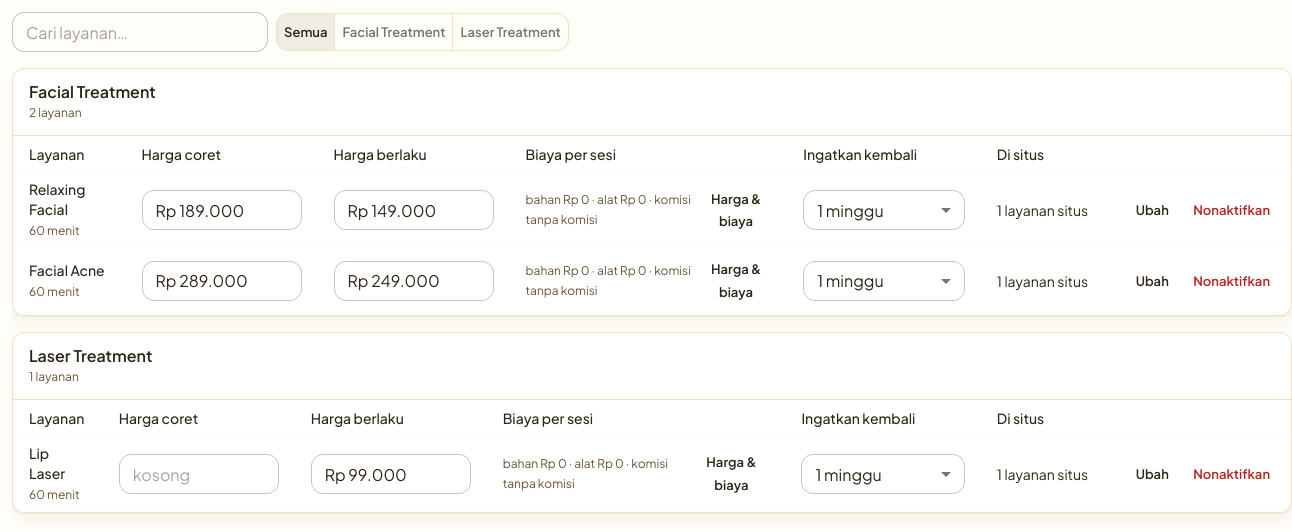
ServicePriceTable (spec D 5.4) › cari dan chip kategori menyaring tanpa membuang perubahan
The width and height of the screenshot is (1292, 532).
Type "1" into the field named "Harga berlaku Facial Acne".
click(414, 281); type("1")  # box [334,261,494,301]
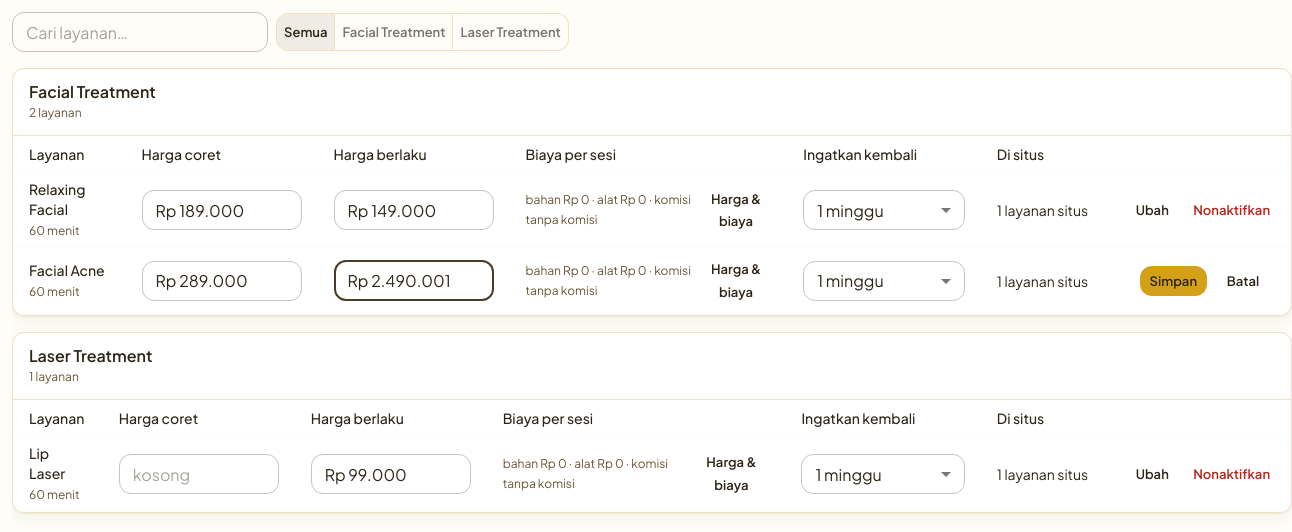
Click the button "Laser Treatment".
click(511, 32)  # box [452,13,569,51]
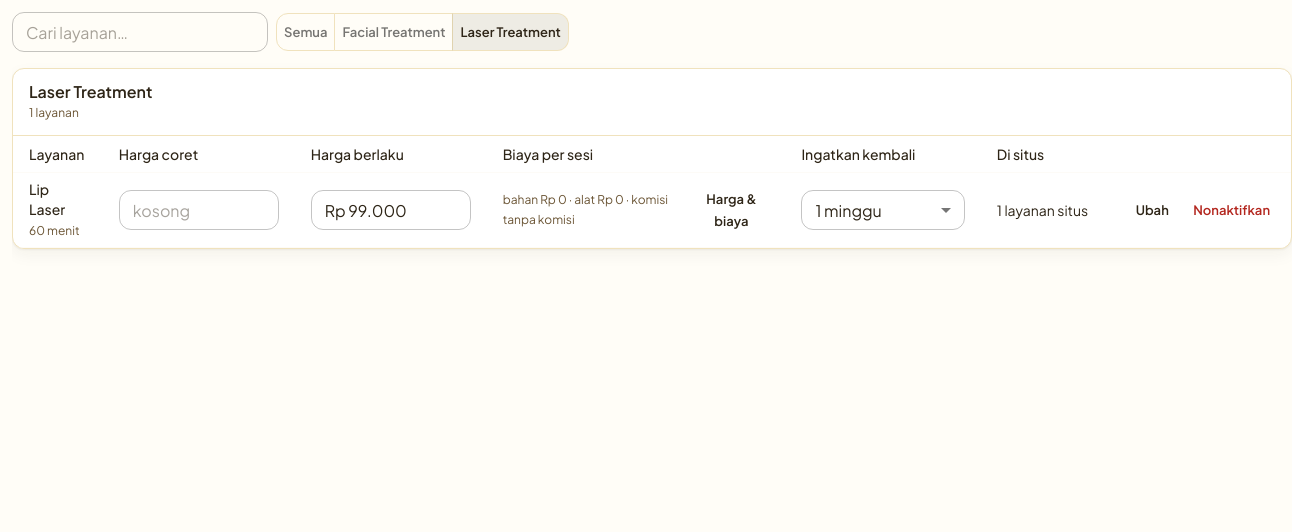
Check: the button "Laser Treatment" is pressed, box [452,13,569,51]
Click the button "Semua".
click(306, 32)  # box [276,13,336,51]
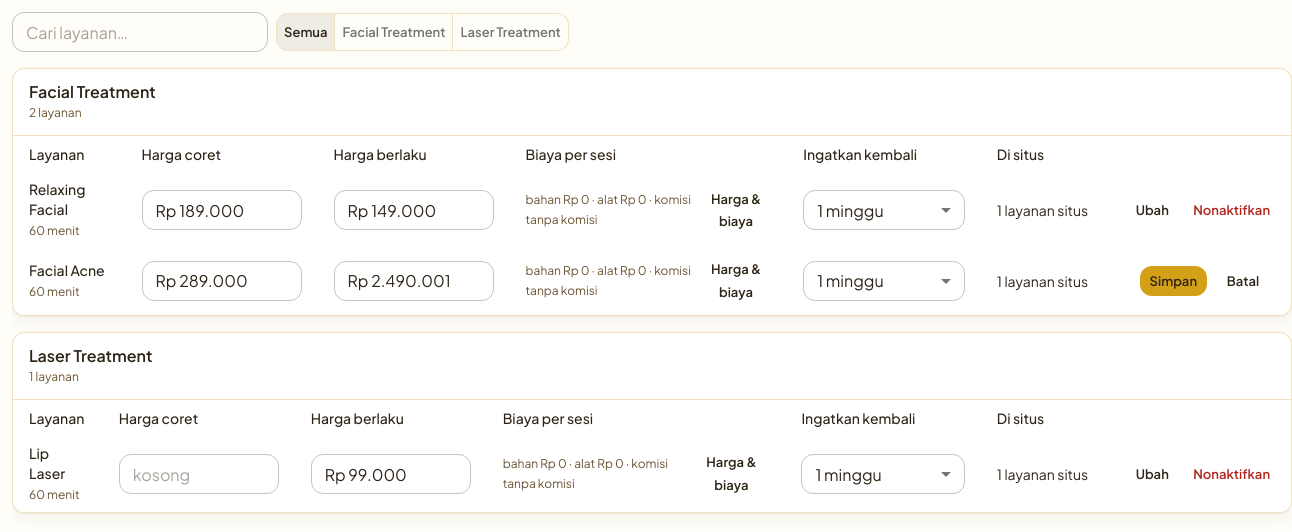
Check: the field named "Harga berlaku Facial Acne" holds "Rp 2.490.001", box [334,261,494,301]
Type "relax" into the search field labelled "Cari layanan".
click(140, 32); type("relax")  # box [12,12,268,52]
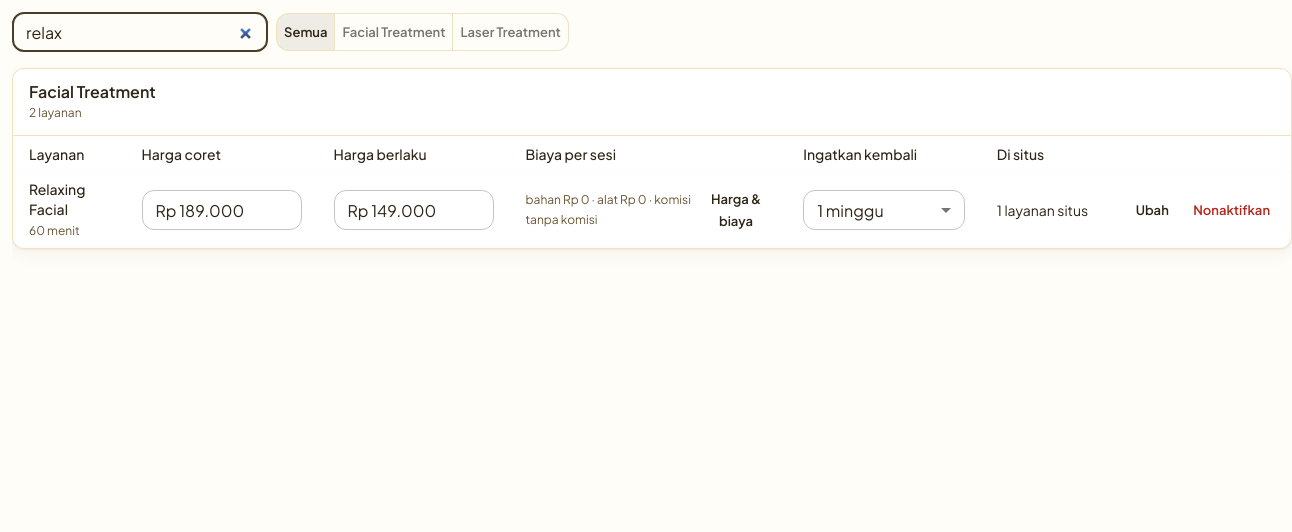
Check: the row "Relaxing Facial" is shown, box [13,173,1291,248]
Replace the text in the search field named "Cari layanan" with "zzz" at (140, 32), box [12,12,268,52]
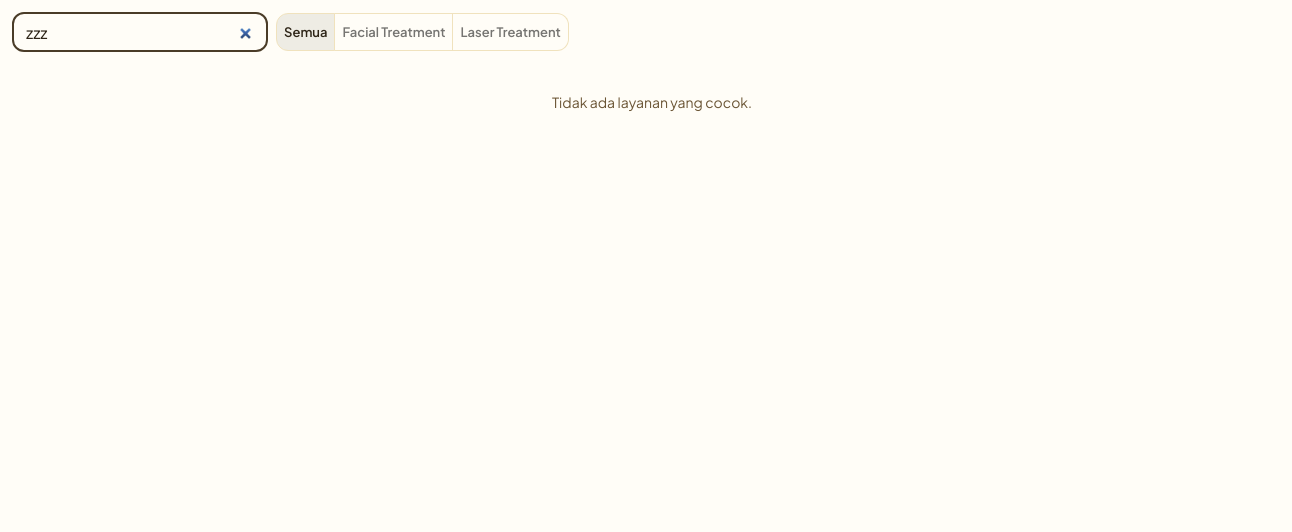
Check: the text "Tidak ada layanan yang cocok." is shown, box [552,93,752,111]
